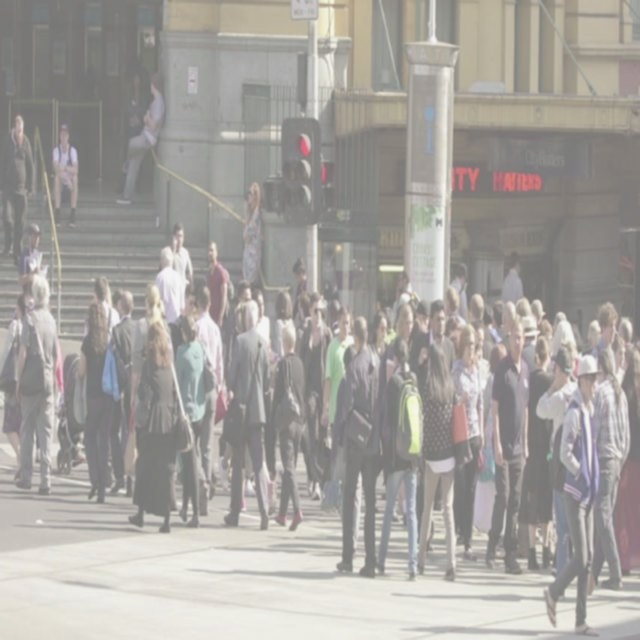pessoa: (541, 351, 605, 638), (368, 333, 426, 587), (333, 313, 382, 579), (483, 312, 532, 577), (221, 296, 273, 535), (408, 297, 456, 554), (126, 320, 180, 538), (535, 342, 580, 602), (586, 344, 632, 594), (12, 266, 61, 498), (416, 338, 461, 582), (123, 282, 175, 482), (294, 290, 336, 504), (449, 323, 486, 564), (77, 296, 119, 506), (218, 278, 257, 498), (520, 333, 556, 571), (322, 342, 361, 558), (269, 320, 306, 535), (172, 310, 208, 530), (192, 282, 225, 518), (548, 344, 580, 579), (114, 70, 168, 208), (108, 288, 139, 500), (0, 110, 38, 268), (270, 288, 297, 482), (618, 343, 640, 581), (318, 302, 356, 430), (152, 244, 186, 364), (49, 118, 82, 230), (82, 273, 122, 347), (204, 238, 235, 332), (241, 180, 265, 292), (168, 218, 194, 318), (384, 302, 414, 386), (170, 281, 198, 363), (481, 343, 508, 428), (123, 70, 146, 162), (468, 292, 497, 364), (16, 221, 43, 295), (372, 285, 402, 351), (549, 318, 582, 374), (590, 300, 618, 360), (316, 285, 344, 343), (613, 314, 635, 386), (476, 290, 504, 346), (448, 260, 471, 327), (470, 318, 490, 389), (250, 286, 270, 354), (396, 270, 422, 322), (501, 249, 524, 307), (366, 309, 388, 367), (495, 298, 517, 354), (522, 312, 542, 370), (295, 290, 313, 354), (291, 256, 308, 320), (444, 284, 467, 331), (47, 60, 64, 120), (115, 78, 131, 140), (80, 58, 100, 102), (444, 310, 466, 350), (610, 336, 626, 386), (320, 246, 340, 286), (532, 294, 554, 326), (514, 292, 532, 328), (168, 322, 184, 362), (588, 318, 604, 358), (112, 282, 126, 326), (54, 348, 66, 398), (214, 388, 230, 424), (345, 300, 358, 343), (416, 298, 432, 330), (22, 280, 34, 315), (570, 316, 586, 342), (127, 397, 137, 435), (174, 451, 184, 488), (552, 306, 566, 332), (208, 465, 217, 503), (104, 278, 112, 318), (474, 344, 492, 360), (157, 294, 167, 320), (538, 325, 554, 340), (117, 170, 127, 193), (408, 294, 418, 316), (95, 162, 104, 185), (154, 256, 162, 276), (634, 334, 640, 358), (11, 310, 18, 322)
